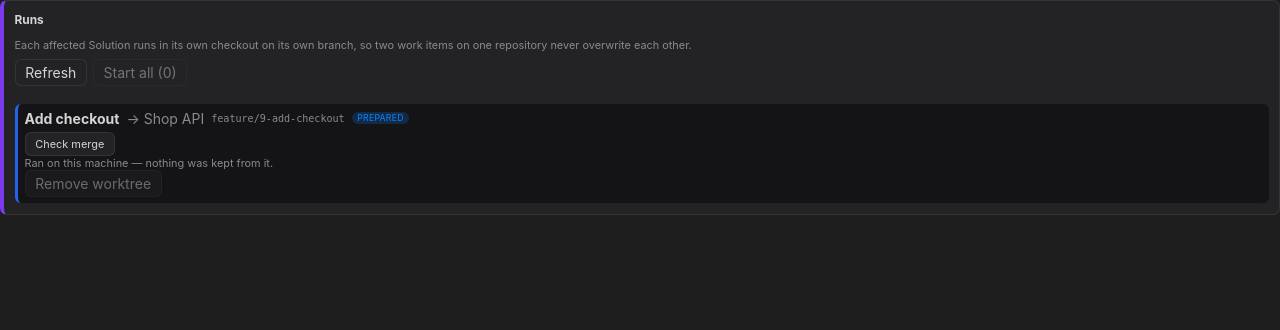
it: RunsPanel › surfaces a refusal to merge over uncommitted work
Click the button with aria-label "Check merge for Add checkout on Shop API": (70, 144) [24,132,115,156]
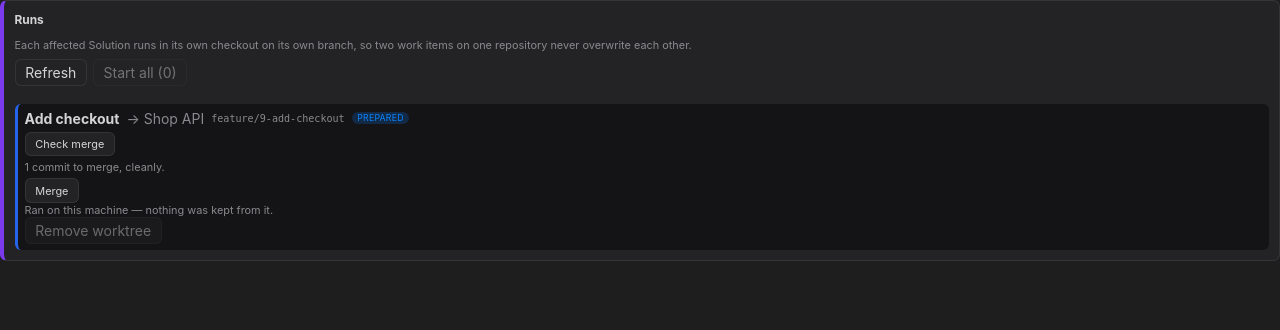
Click the button with aria-label "Merge Add checkout on Shop API": (52, 191) [24,178,79,203]
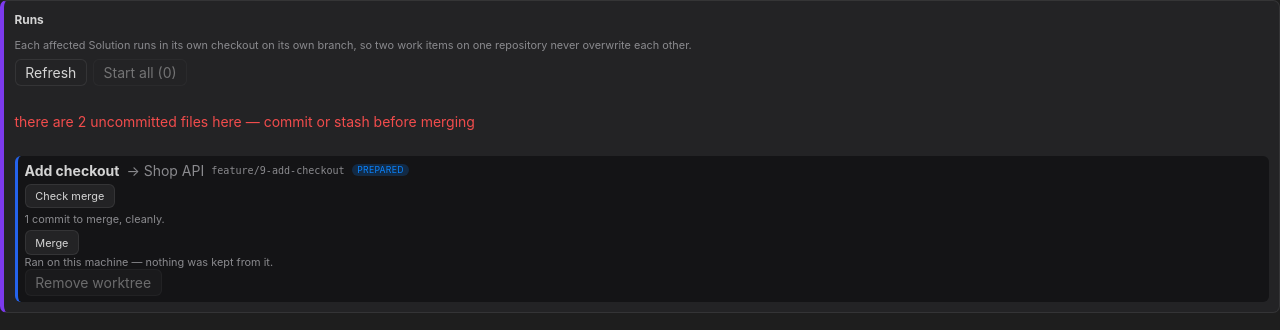
Check: the text "there are 2 uncommitted files here — commit or stash before merging" is shown, box [14,113,475,130]
